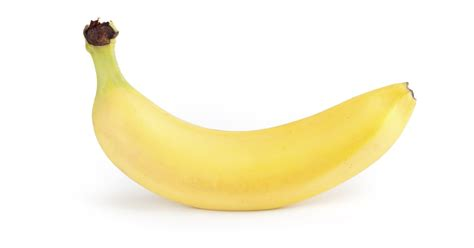banana: (88, 76, 423, 213)
